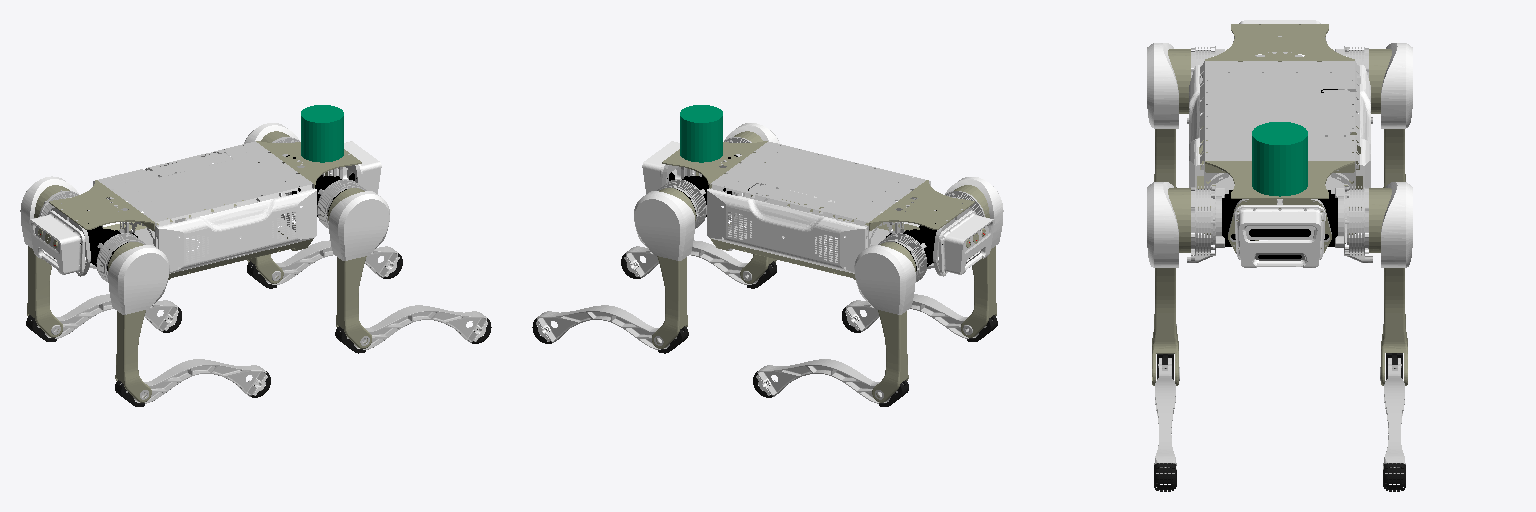
The robot description file, URDF, robot "X20":
<?xml version="1.0" encoding="utf-8"?> 
<robot name="X20"> 

  <!-- <link name="dummy">
  </link>
  <joint name="dummy_joint" type="fixed">
    <parent link="dummy">
    <origin
        xyz="0 0 0"
        rpy="0 0 0" />
    <child link="TORSO">
  </joint> -->

  <link name="TORSO"> 
    <inertial> 
      <mass value="0.0001" /> 
      <inertia ixx="1E-12" ixy="0" ixz="0" iyy="1E-12" iyz="0" izz="1E-12" /> 
    </inertial> 
    <visual> 
      <geometry> 
        <!-- <mesh filename="../meshes/Torso.dae" />  -->
        <mesh filename="package://x20_description/meshes/Torso.dae" />

      </geometry> 
    </visual> 
    <collision> 
      <geometry> 
        <box size="0.46 0.26 0.15"/> 
      </geometry> 
    </collision> 
  </link> 
 
  <link name="INERTIA"> 
    <inertial> 
      <origin xyz="0.0049299 0.00041299 0.0040884"/> 
      <mass value="26.398" /> 
      <inertia ixx="0.1632" ixy="-5.2136E-05" ixz="-0.00019406" iyy="0.40648" iyz="8.2679E-05" izz="0.52596" /> 
    </inertial> 
  </link> 
 
  <joint name="Torso2Inertia" type="fixed"> 
    <parent link="TORSO" /> 
    <child link="INERTIA" /> 
  </joint> 
 
  <link name="FL_HIP"> 
    <inertial> 
      <origin xyz="-0.00075689 -0.0089129 -5.0528E-05"/> 
      <mass value="1.5767" /> 
      <inertia ixx="0.0012141" ixy="6.1989E-06" ixz="2.8652E-06" iyy="0.0016912" iyz="3.7E-06" izz="0.0013431" /> 
    </inertial> 
    <visual> 
      <geometry> 
        <!-- <mesh filename="../meshes/FL_Hip.dae" />  -->
        <mesh filename="package://x20_description/meshes/FL_Hip.dae" />
      </geometry> 
    </visual>
  </link> 
 
  <joint name="FL_HipX_joint" type="revolute"> 
    <origin xyz="0.292 0.08 0"/> 
    <parent link="TORSO" /> 
    <child link="FL_HIP" /> 
    <axis xyz="-1 0 0" /> 
    <dynamics damping="0.01" friction="0.03"/> 
    <limit lower="-0.496" upper="0.496" effort="50" velocity="20" /> 
  </joint> 
 
  <link name="FL_THIGH"> 
    <inertial> 
      <origin xyz="-0.0025263 -0.022118 -0.0292"/> 
      <mass value="3.0063" /> 
      <inertia ixx="0.0058102" ixy="4.2848E-05" ixz="-3.0429E-06" iyy="0.0080686" iyz="-6.8889E-05" izz="0.003874" /> 
    </inertial> 
    <visual> 
      <geometry> 
        <!-- <mesh filename="../meshes/L_Thigh.dae" />  -->
        <mesh filename="package://x20_description/meshes/L_Thigh.dae" />

      </geometry> 
    </visual> 
    <collision> 
      <origin xyz="-0.02 0 -0.13" /> 
      <geometry> 
        <cylinder length="0.25" radius="0.04"/> 
      </geometry> 
    </collision> 
  </link> 
 
  <joint name="FL_HipY_joint" type="revolute"> 
    <origin xyz="0 0.12325 0"/> 
    <parent link="FL_HIP" /> 
    <child link="FL_THIGH" /> 
    <axis xyz="0 -1 0" /> 
    <dynamics damping="0.01" friction="0.03"/> 
    <limit lower="-2.79" upper="0.257" effort="50" velocity="20" /> 
  </joint> 
 
  <link name="FL_SHANK"> 
    <inertial> 
      <origin xyz="0.0070425 1.3129E-06 -0.16459"/> 
      <mass value="0.60332" /> 
      <inertia ixx="0.0054272" ixy="8.0708E-08" ixz="0.00019488" iyy="0.0056451" iyz="-1.6129E-06" izz="0.00031257" /> 
    </inertial> 
    <visual> 
      <geometry> 
        <!-- <mesh filename="../meshes/Shank.dae" /> -->
        <mesh filename="package://x20_description/meshes/Shank.dae" /> 
      </geometry> 
    </visual> 
    <collision> 
      <origin xyz="0.00 0 -0.155" /> 
      <geometry> 
        <!-- <sphere radius="0.036"/> --> 
        <cylinder length="0.22" radius="0.025"/> 
      </geometry> 
    </collision> 
  </link> 
 
  <joint name="FL_Knee_joint" type="revolute"> 
    <origin xyz="0 0 -0.3"/> 
    <parent link="FL_THIGH" /> 
    <child link="FL_SHANK" /> 
    <axis xyz="0 -1 0" /> 
    <dynamics damping="0.01" friction="0.03"/> 
    <limit lower="0.35" upper="2.48" effort="80" velocity="20" /> 
  </joint> 
 
  <link name="FL_FOOT"> 
    <inertial> 
      <mass value="0.06" /> 
      <inertia ixx="1E-12" ixy="0" ixz="0" iyy="1E-12" iyz="0" izz="1E-12" /> 
    </inertial> 
    <collision> 
      <geometry> 
        <sphere radius="0.025"/> 
      </geometry> 
    </collision> 
  </link> 
 
  <joint name="FL_Ankle" type="fixed" dont_collapse="true"> 
    <origin xyz="0 0.002 -0.32"/> 
    <parent link="FL_SHANK" /> 
    <child link="FL_FOOT" /> 
  </joint> 
 
  <link name="FR_HIP"> 
    <inertial> 
      <origin xyz="-0.00075689 0.0089129 5.0528E-05"/> 
      <mass value="1.5767" /> 
      <inertia ixx="0.0012141" ixy="-6.1989E-06" ixz="-2.8652E-06" iyy="0.0016912" iyz="3.7E-06" izz="0.0013431" /> 
    </inertial> 
    <visual> 
      <geometry> 
        <!-- <mesh filename="../meshes/FR_Hip.dae" />  -->
        <mesh filename="package://x20_description/meshes/FR_Hip.dae" />
      </geometry> 
    </visual> 
  </link> 
 
  <joint name="FR_HipX_joint" type="revolute"> 
    <origin xyz="0.292 -0.08 0"/> 
    <parent link="TORSO" /> 
    <child link="FR_HIP" /> 
    <axis xyz="-1 0 0" /> 
    <dynamics damping="0.01" friction="0.03"/> 
    <limit lower="-0.496" upper="0.496" effort="50" velocity="20" /> 
  </joint> 
 
  <link name="FR_THIGH"> 
    <inertial> 
      <origin xyz="-0.0025266 0.022119 -0.029194"/> 
      <mass value="3.0062" /> 
      <inertia ixx="0.00581" ixy="-4.2781E-05" ixz="-3.0682E-06" iyy="0.0080684" iyz="6.8812E-05" izz="0.0038739" /> 
    </inertial> 
    <visual> 
      <geometry> 
        <!-- <mesh filename="../meshes/R_Thigh.dae" />  -->
        <mesh filename="package://x20_description/meshes/R_Thigh.dae" />
      </geometry> 
    </visual> 
    <collision> 
      <origin xyz="-0.02 0 -0.13" /> 
      <geometry> 
        <cylinder length="0.25" radius="0.04"/> 
      </geometry> 
    </collision> 
  </link> 
 
  <joint name="FR_HipY_joint" type="revolute"> 
    <origin xyz="0 -0.12325 0"/> 
    <parent link="FR_HIP" /> 
    <child link="FR_THIGH" /> 
    <axis xyz="0 -1 0" /> 
    <dynamics damping="0.01" friction="0.03"/> 
    <limit lower="-2.79" upper="0.257" effort="50" velocity="20" /> 
  </joint> 
 
  <link name="FR_SHANK"> 
    <inertial> 
      <origin xyz="0.0070425 1.3129E-06 -0.16459"/> 
      <mass value="0.60332" /> 
      <inertia ixx="0.0054272" ixy="8.0708E-08" ixz="0.00019488" iyy="0.0056451" iyz="-1.6129E-06" izz="0.00031257" /> 
    </inertial> 
    <visual> 
      <geometry> 
        <!-- <mesh filename="../meshes/Shank.dae" /> -->
        <mesh filename="package://x20_description/meshes/Shank.dae" /> 
      </geometry> 
    </visual> 
    <collision> 
      <origin xyz="0.00 0 -0.155" /> 
      <geometry> 
        <!-- <sphere radius="0.036"/> --> 
        <cylinder length="0.22" radius="0.025"/> 
      </geometry> 
    </collision> 
  </link> 
 
  <joint name="FR_Knee_joint" type="revolute"> 
    <origin xyz="0 0 -0.3"/> 
    <parent link="FR_THIGH" /> 
    <child link="FR_SHANK" /> 
    <axis xyz="0 -1 0" /> 
    <dynamics damping="0.01" friction="0.03"/> 
    <limit lower="0.35" upper="2.48" effort="80" velocity="20" /> 
  </joint> 
 
  <link name="FR_FOOT"> 
    <inertial> 
      <mass value="0.06" /> 
      <inertia ixx="1E-12" ixy="0" ixz="0" iyy="1E-12" iyz="0" izz="1E-12" /> 
    </inertial> 
    <collision> 
      <geometry> 
        <sphere radius="0.025"/> 
      </geometry> 
    </collision> 
  </link> 
 
  <joint name="FR_Ankle" type="fixed" dont_collapse="true"> 
    <origin xyz="0 -0.002 -0.32"/> 
    <parent link="FR_SHANK" /> 
    <child link="FR_FOOT" /> 
  </joint> 
 
  <link name="HL_HIP"> 
    <inertial> 
      <origin xyz="0.00075689 -0.0089129 5.0528E-05"/> 
      <mass value="1.5767" /> 
      <inertia ixx="0.0012141" ixy="-6.1989E-06" ixz="2.8652E-06" iyy="0.0016912" iyz="-3.7E-06" izz="0.0013431" /> 
    </inertial> 
    <visual> 
      <geometry> 
        <!-- <mesh filename="../meshes/HL_Hip.dae" /> -->
        <mesh filename="package://x20_description/meshes/HL_Hip.dae" /> 
      </geometry> 
    </visual> 
  </link> 
 
  <joint name="HL_HipX_joint" type="revolute"> 
    <origin xyz="-0.292 0.08 0"/> 
    <parent link="TORSO" /> 
    <child link="HL_HIP" /> 
    <axis xyz="-1 0 0" /> 
    <dynamics damping="0.01" friction="0.03"/> 
    <limit lower="-0.496" upper="0.496" effort="50" velocity="20" /> 
  </joint> 
 
  <link name="HL_THIGH"> 
    <inertial> 
      <origin xyz="-0.0025264 -0.022118 -0.0292"/> 
      <mass value="3.0063" /> 
      <inertia ixx="0.0058102" ixy="4.2848E-05" ixz="-3.0439E-06" iyy="0.0080686" iyz="-6.889E-05" izz="0.003874" /> 
    </inertial> 
    <visual> 
      <geometry> 
        <!-- <mesh filename="../meshes/L_Thigh.dae" />  -->
        <mesh filename="package://x20_description/meshes/L_Thigh.dae" />
      </geometry> 
    </visual> 
    <collision> 
      <origin xyz="-0.02 0 -0.13" /> 
      <geometry> 
        <cylinder length="0.25" radius="0.04"/> 
      </geometry> 
    </collision> 
  </link> 
 
  <joint name="HL_HipY_joint" type="revolute"> 
    <origin xyz="0 0.12325 0"/> 
    <parent link="HL_HIP" /> 
    <child link="HL_THIGH" /> 
    <axis xyz="0 -1 0" /> 
    <dynamics damping="0.01" friction="0.03"/> 
    <limit lower="-2.79" upper="0.257" effort="50" velocity="20" /> 
  </joint> 
 
  <link name="HL_SHANK"> 
    <inertial> 
      <origin xyz="0.0070425 0 -0.16459"/> 
      <mass value="0.60332" /> 
      <inertia ixx="0.0054272" ixy="8.0708E-08" ixz="0.00019488" iyy="0.0056451" iyz="-1.6129E-06" izz="0.00031257" /> 
    </inertial> 
    <visual> 
      <geometry> 
        <!-- <mesh filename="../meshes/Shank.dae" /> -->
        <mesh filename="package://x20_description/meshes/Shank.dae" /> 
      </geometry> 
    </visual> 
    <collision> 
      <origin xyz="0.00 0 -0.155" /> 
      <geometry> 
        <!-- <sphere radius="0.036"/> --> 
        <cylinder length="0.22" radius="0.025"/> 
      </geometry> 
    </collision> 
  </link> 
 
  <joint name="HL_Knee_joint" type="revolute"> 
    <origin xyz="0 0 -0.3"/> 
    <parent link="HL_THIGH" /> 
    <child link="HL_SHANK" /> 
    <axis xyz="0 -1 0" /> 
    <dynamics damping="0.01" friction="0.03"/> 
    <limit lower="0.35" upper="2.48" effort="80" velocity="20" /> 
  </joint> 
 
  <link name="HL_FOOT"> 
    <inertial> 
      <mass value="0.06" /> 
      <inertia ixx="1E-12" ixy="0" ixz="0" iyy="1E-12" iyz="0" izz="1E-12" /> 
    </inertial> 
    <collision> 
      <geometry> 
        <sphere radius="0.025"/> 
      </geometry> 
    </collision> 
  </link> 
 
  <joint name="HL_Ankle" type="fixed" dont_collapse="true"> 
    <origin xyz="0 0.002 -0.32"/> 
    <parent link="HL_SHANK" /> 
    <child link="HL_FOOT" /> 
  </joint> 
 
  <link name="HR_HIP"> 
    <inertial> 
      <origin xyz="0.00075689 0.0089129 -5.0528E-05"/> 
      <mass value="1.5767" /> 
      <inertia ixx="0.0012141" ixy="6.1989E-06" ixz="-2.8652E-06" iyy="0.0016912" iyz="-3.7E-06" izz="0.0013431" /> 
    </inertial> 
    <visual> 
      <geometry> 
        <!-- <mesh filename="../meshes/HR_Hip.dae" />  -->
        <mesh filename="package://x20_description/meshes/HR_Hip.dae" />
      </geometry> 
    </visual> 
  </link> 
 
  <joint name="HR_HipX_joint" type="revolute"> 
    <origin xyz="-0.292 -0.08 0"/> 
    <parent link="TORSO" /> 
    <child link="HR_HIP" /> 
    <axis xyz="-1 0 0" /> 
    <dynamics damping="0.01" friction="0.03"/> 
    <limit lower="-0.496" upper="0.496" effort="50" velocity="20" /> 
  </joint> 
 
  <link name="HR_THIGH"> 
    <inertial> 
      <origin xyz="-0.0025266 0.022119 -0.029194"/> 
      <mass value="3.0062" /> 
      <inertia ixx="0.00581" ixy="-4.2781E-05" ixz="-3.0688E-06" iyy="0.0080684" iyz="6.8812E-05" izz="0.0038739" /> 
    </inertial> 
    <visual> 
      <geometry> 
        <!-- <mesh filename="../meshes/R_Thigh.dae" />  -->
        <mesh filename="package://x20_description/meshes/R_Thigh.dae" />
      </geometry> 
    </visual> 
    <collision> 
      <origin xyz="-0.02 0 -0.13" /> 
      <geometry> 
        <cylinder length="0.25" radius="0.04"/> 
      </geometry> 
    </collision> 
  </link> 
 
  <joint name="HR_HipY_joint" type="revolute"> 
    <origin xyz="0 -0.12325 0"/> 
    <parent link="HR_HIP" /> 
    <child link="HR_THIGH" /> 
    <axis xyz="0 -1 0" /> 
    <dynamics damping="0.01" friction="0.03"/> 
    <limit lower="-2.79" upper="0.257" effort="50" velocity="20" /> 
  </joint> 
 
  <link name="HR_SHANK"> 
    <inertial> 
      <origin xyz="0.0070425 0.0 -0.16459"/> 
      <mass value="0.60332" /> 
      <inertia ixx="0.0054272" ixy="8.0708E-08" ixz="0.00019488" iyy="0.0056451" iyz="-1.6129E-06" izz="0.00031257" /> 
    </inertial> 
    <visual> 
      <geometry> 
        <!-- <mesh filename="../meshes/Shank.dae" />  -->
        <mesh filename="package://x20_description/meshes/Shank.dae" />
      </geometry> 
    </visual> 
    <collision> 
      <origin xyz="0.00 0 -0.155" /> 
      <geometry> 
        <!-- <sphere radius="0.036"/> --> 
        <cylinder length="0.22" radius="0.025"/> 
      </geometry> 
    </collision> 
  </link> 
 
  <joint name="HR_Knee_joint" type="revolute"> 
    <origin xyz="0 0 -0.3"/> 
    <parent link="HR_THIGH" /> 
    <child link="HR_SHANK" /> 
    <axis xyz="0 -1 0" /> 
    <dynamics damping="0.01" friction="0.03"/> 
    <limit lower="0.35" upper="2.48" effort="80" velocity="20" /> 
  </joint> 
 
  <link name="HR_FOOT"> 
    <inertial> 
      <mass value="0.06" /> 
      <inertia ixx="1E-12" ixy="0" ixz="0" iyy="1E-12" iyz="0" izz="1E-12" /> 
    </inertial> 
    <collision> 
      <geometry> 
        <sphere radius="0.025"/> 
      </geometry> 
    </collision> 
  </link> 
 
  <joint name="HR_Ankle" type="fixed" dont_collapse="true"> 
    <origin xyz="0 -0.002 -0.32"/> 
    <parent link="HR_SHANK" /> 
    <child link="HR_FOOT" /> 
  </joint> 
 
  <link name="LIDAR"> 
    <inertial> 
      <mass value="0.05" /> 
      <inertia ixx="1E-12" ixy="0" ixz="0" iyy="1E-12" iyz="0" izz="1E-12" /> 
    </inertial> 
    <visual> 
      <origin xyz="0 0 0.05"/> 
      <geometry> 
        <cylinder length="0.10" radius="0.05"/> 
      </geometry> 
    </visual> 
  </link> 
 
  <joint name="Neck" type="fixed"> 
    <origin xyz="0.31 0 0.079"/> 
    <parent link="TORSO" /> 
    <child link="LIDAR" /> 
    <axis xyz="0 0 1" /> 
  </joint> 
 
</robot>

--- Facts derived from the render (not from the file) ---
Views: 3 orthographic renders of the robot side by side, from view 1: azimuth 30°, elevation 25°; view 2: azimuth 150°, elevation 25°; view 3: azimuth 270°, elevation 25°.
Robot: X20 — 19 links, 18 joints (12 revolute, 6 fixed); root link TORSO; default pose: joints at zero except 4 at the middle of their limits (FL_Knee_joint = 1.42, FR_Knee_joint = 1.42, HL_Knee_joint = 1.42, HR_Knee_joint = 1.42).
Visible links, largest first — view 1: TORSO, FR_THIGH, HR_THIGH, HL_THIGH, HR_SHANK, FR_SHANK, LIDAR, FL_SHANK, HL_SHANK, FL_THIGH; view 2: TORSO, FL_THIGH, HL_THIGH, HR_THIGH, HL_SHANK, FL_SHANK, LIDAR, FR_SHANK, HR_SHANK, FR_THIGH; view 3: TORSO, FR_THIGH, FL_THIGH, HL_THIGH, HR_THIGH, LIDAR, FL_SHANK, FR_SHANK.
Link boxes in pixels (<box>): TORSO: <box>29,141,381,279</box>; FR_THIGH: <box>317,179,389,348</box>; HR_THIGH: <box>96,233,169,402</box>; HL_THIGH: <box>20,176,78,337</box>; HR_SHANK: <box>115,359,270,406</box>; FR_SHANK: <box>335,305,491,353</box>; LIDAR: <box>301,105,343,162</box>; FL_SHANK: <box>247,240,402,288</box>; HL_SHANK: <box>26,294,181,341</box>; FL_THIGH: <box>244,123,299,283</box>; TORSO: <box>642,141,994,279</box>; FL_THIGH: <box>634,179,706,348</box>; HL_THIGH: <box>854,233,927,402</box>; HR_THIGH: <box>945,177,1003,337</box>; HL_SHANK: <box>753,359,908,406</box>; FL_SHANK: <box>532,305,688,353</box>; LIDAR: <box>680,105,722,162</box>; FR_SHANK: <box>621,240,776,288</box>; HR_SHANK: <box>842,294,997,341</box>; FR_THIGH: <box>724,123,779,283</box>; TORSO: <box>1189,20,1370,267</box>; FR_THIGH: <box>1147,182,1224,385</box>; FL_THIGH: <box>1335,182,1412,385</box>; HL_THIGH: <box>1335,43,1412,187</box>; HR_THIGH: <box>1147,43,1224,187</box>; LIDAR: <box>1252,122,1307,196</box>; FL_SHANK: <box>1383,353,1405,491</box>; FR_SHANK: <box>1154,354,1176,491</box>.
Size in the robot's own frame: 1.06 by 0.47 by 0.5621 metres.
Meshes: 8 distinct files referenced, 13 mesh visuals loaded (8 Collada DAE).